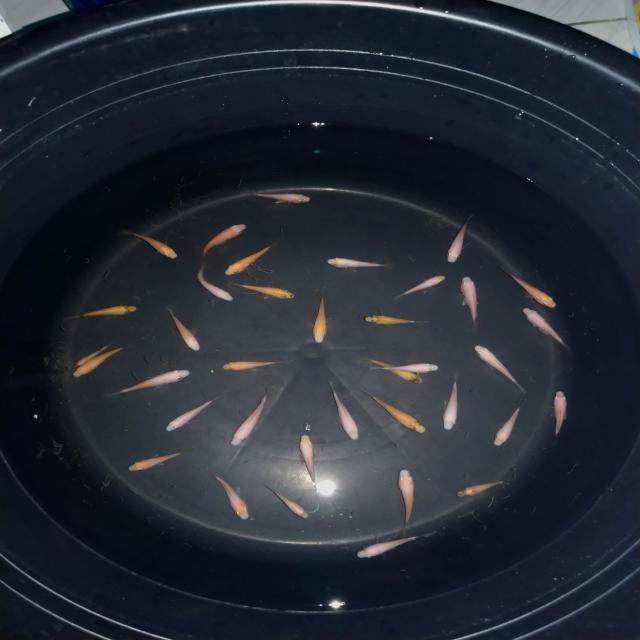nila: (351, 386, 432, 436), (471, 341, 534, 398), (494, 265, 566, 313), (96, 366, 197, 400), (223, 387, 277, 449), (352, 524, 444, 560), (512, 306, 576, 354), (190, 220, 256, 262), (156, 302, 206, 354), (488, 393, 534, 448), (160, 390, 220, 432), (323, 379, 362, 442), (118, 225, 181, 263), (258, 481, 316, 522), (68, 344, 128, 382), (220, 242, 280, 280), (210, 471, 252, 524), (189, 264, 241, 306), (58, 298, 144, 323), (363, 354, 428, 386), (452, 274, 487, 332), (230, 274, 302, 302), (441, 214, 479, 267), (391, 463, 418, 536), (294, 430, 324, 494), (64, 340, 124, 372), (387, 272, 448, 302), (246, 184, 319, 208), (122, 448, 184, 476), (546, 388, 574, 448), (438, 372, 464, 434), (358, 309, 433, 330), (453, 476, 511, 500), (220, 356, 288, 376), (322, 252, 397, 270), (310, 288, 330, 347), (366, 359, 444, 374)
